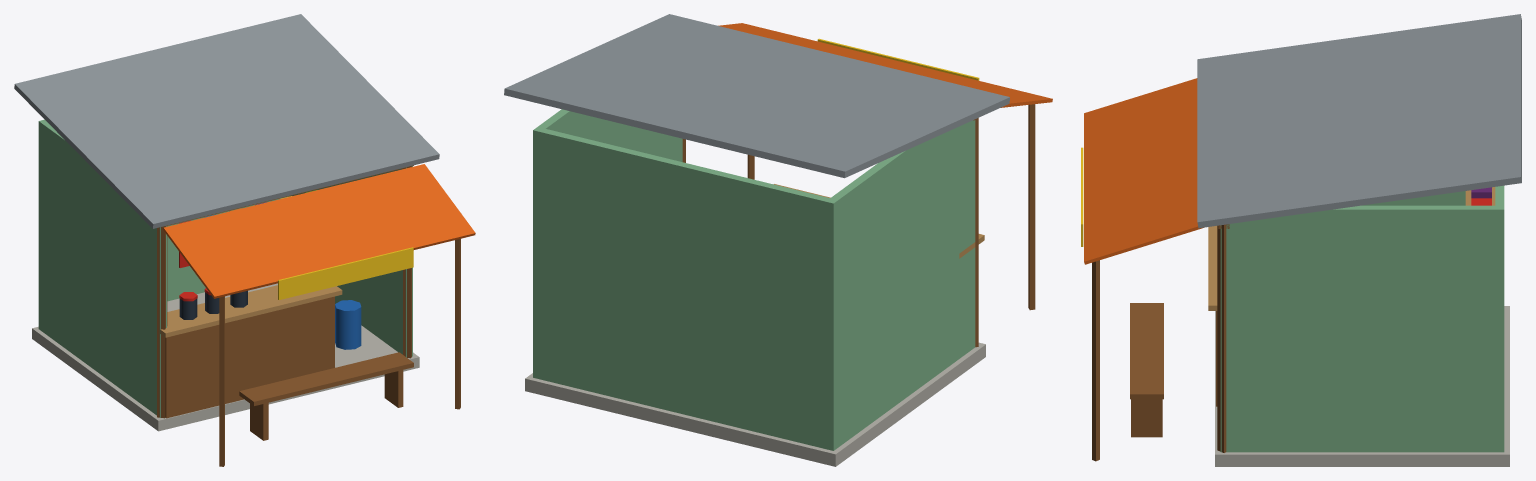
File: warung.glb
The picture shows the model from 3 angles, left to right: view 1: azimuth 30°, elevation 25°; view 2: azimuth 150°, elevation 25°; view 3: azimuth 270°, elevation 25°; orthographic projection. The views are drawn at different scales.
Visible parts, largest first — view 1: body; view 2: body; view 3: body.
Part boxes in pixels (bbox=[...]): body: bbox=[14, 14, 475, 466]; body: bbox=[504, 14, 1052, 466]; body: bbox=[1081, 14, 1521, 466].
Bounding box in the file's own units: 3.4 × 2.89 × 3.88.
